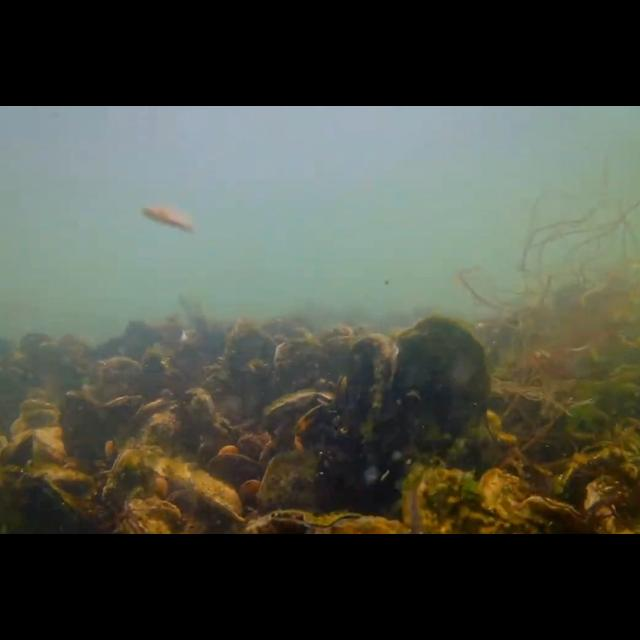Oyster-Closed: (100, 449, 163, 535), (1, 431, 35, 471)
Oyster-Indeterminate: (391, 316, 485, 446), (339, 336, 399, 442), (255, 449, 321, 527), (62, 391, 111, 463), (187, 470, 241, 518), (177, 387, 216, 453)
Oyster-Open: (260, 388, 336, 454), (128, 398, 178, 442), (15, 400, 62, 428)
